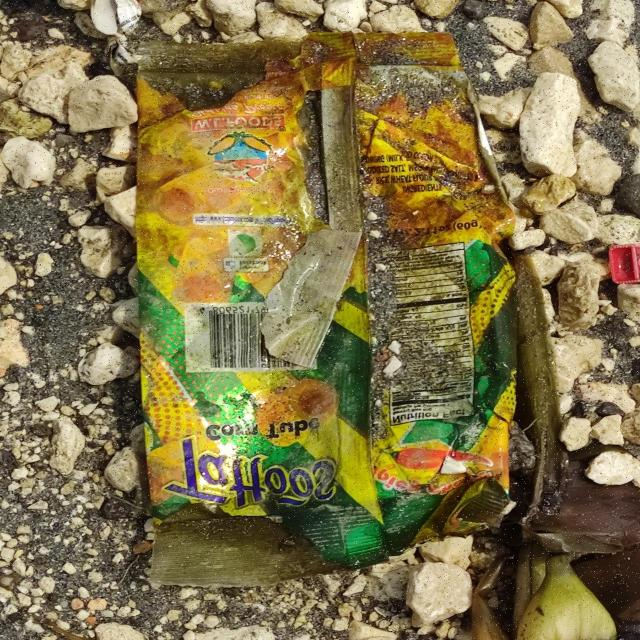plastic_waste: (134, 33, 522, 591)
